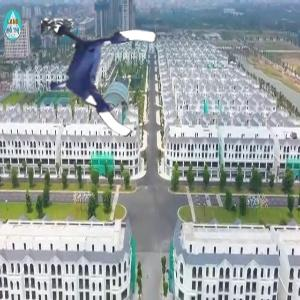drone: (40, 20, 159, 139)
